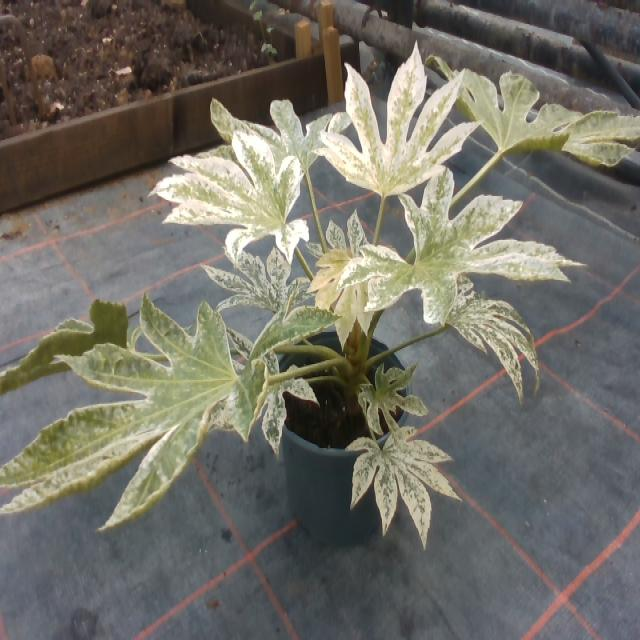Fatsia-japonica: (7, 301, 284, 531), (336, 184, 560, 336), (433, 41, 640, 192), (300, 54, 476, 191), (166, 146, 319, 264), (425, 271, 560, 400), (342, 426, 470, 537), (201, 331, 310, 459), (184, 94, 342, 175), (2, 305, 146, 392), (189, 247, 325, 323), (309, 200, 386, 279), (312, 248, 380, 336), (350, 367, 430, 424)
